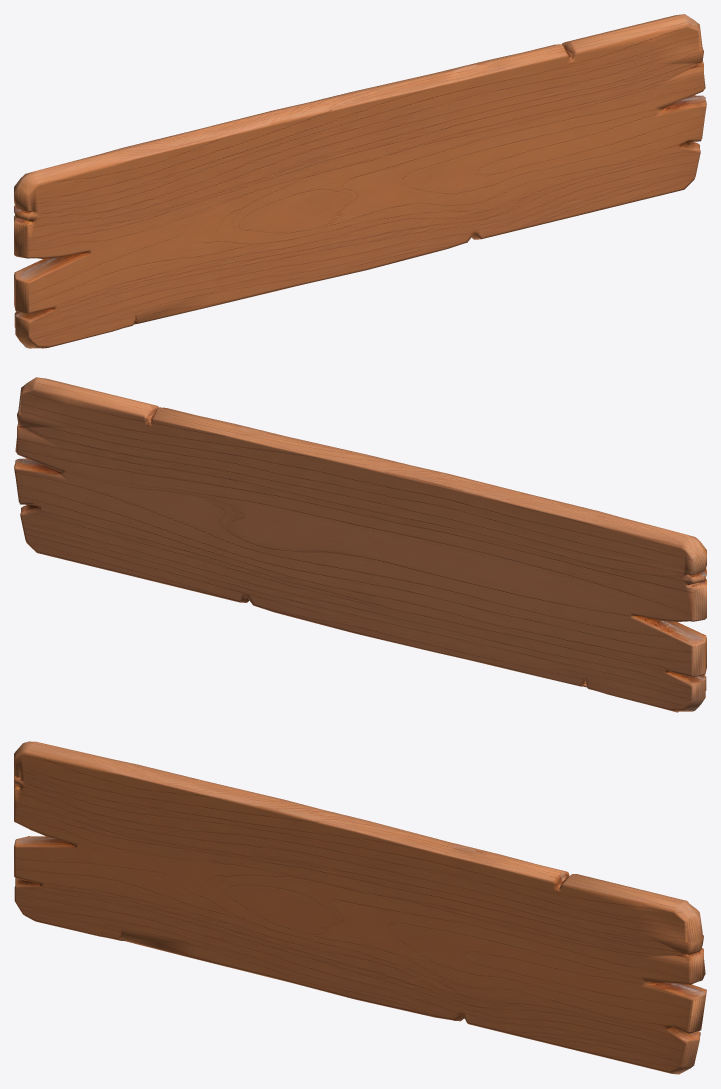
Rendered from WoodPlank.fbx.
3 views of the same model, one above another, from view 1: azimuth 30°, elevation 25°; view 2: azimuth 150°, elevation 25°; view 3: azimuth 330°, elevation 25° (orthographic).
Parts seen in each view (by area): view 1: Mesh_0; view 2: Mesh_0; view 3: Mesh_0.
Boxes of the visible parts, x1,y1,x2,y2 form: Mesh_0: (14,14,706,348); Mesh_0: (14,377,706,712); Mesh_0: (14,741,706,1074).
Size of the model in its own units: 200 by 50.1 by 6.98.
Materials: 1 (1 with a texture image).
